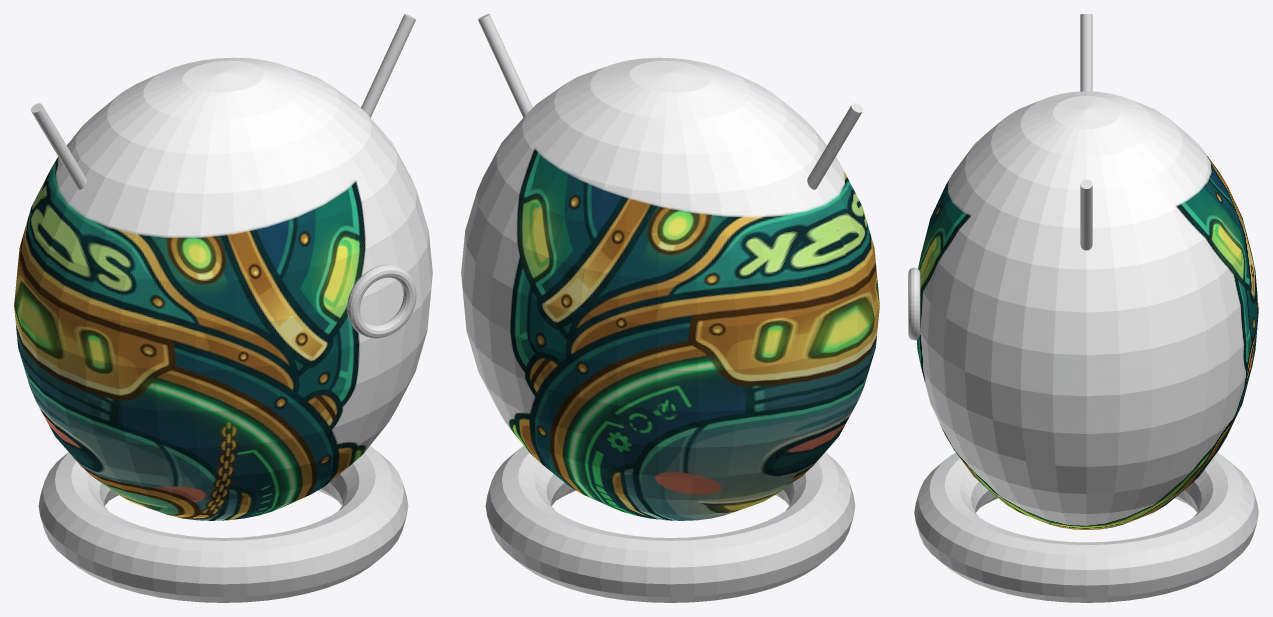
File: accountant_v5_robot.glb
The picture shows the model from 3 angles, left to right: view 1: azimuth 30°, elevation 25°; view 2: azimuth 150°, elevation 25°; view 3: azimuth 270°, elevation 25°; orthographic projection. The views are drawn at different scales.
Parts seen in each view (by area): view 1: Robot_Head, Torus.001, Torus, Cylinder.001, Cylinder; view 2: Robot_Head, Torus.001, Cylinder.001, Cylinder; view 3: Robot_Head, Torus.001, Cylinder, Torus, Cylinder.001.
Part boxes in pixels (box(x1,y1,x2,y2)): Robot_Head: box(14, 57, 432, 520); Torus.001: box(38, 445, 408, 602); Torus: box(347, 264, 416, 338); Cylinder.001: box(361, 14, 415, 117); Cylinder: box(30, 103, 86, 189); Robot_Head: box(461, 57, 879, 520); Torus.001: box(485, 445, 855, 602); Cylinder.001: box(478, 14, 532, 117); Cylinder: box(807, 103, 863, 189); Robot_Head: box(916, 91, 1258, 529); Torus.001: box(914, 452, 1258, 602); Cylinder: box(1080, 14, 1092, 91); Torus: box(908, 267, 920, 340); Cylinder.001: box(1080, 179, 1092, 250).
Bounding box in the file's own units: 2.04 × 2.42 × 1.73.
Materials: 1 (1 with a texture image).
